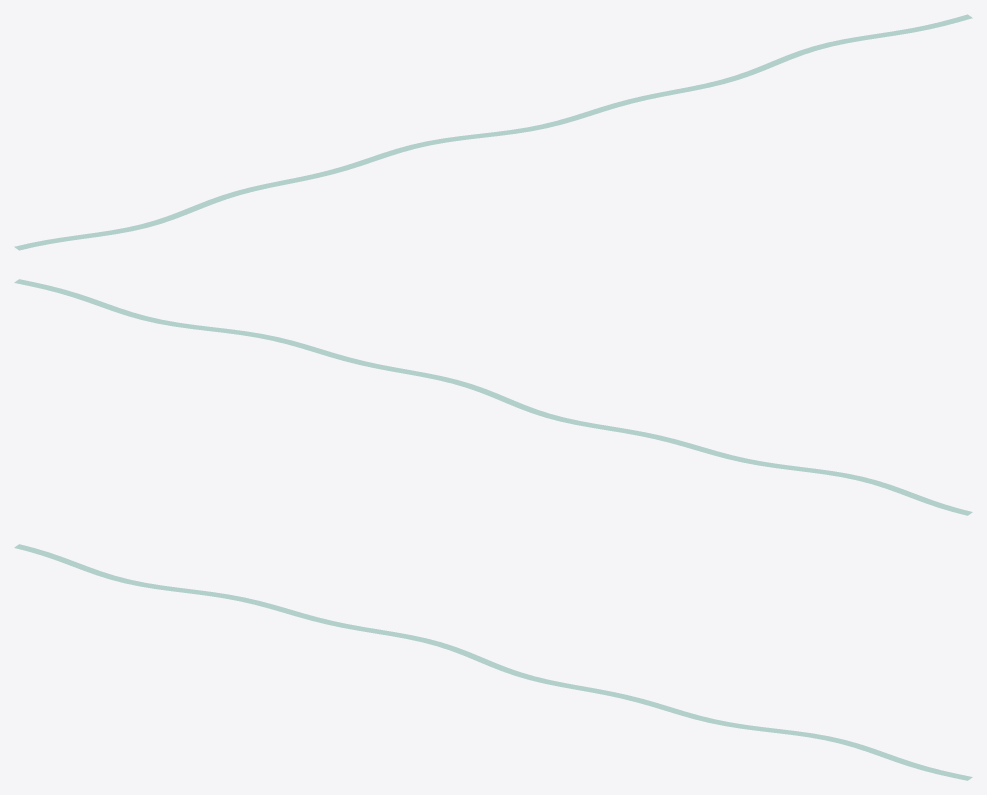
File: shore_foam_strip.glb
3 renders of one model, top to bottom at view 1: azimuth 30°, elevation 25°; view 2: azimuth 150°, elevation 25°; view 3: azimuth 330°, elevation 25°, orthographic.
Visible parts, largest first — view 1: shore_foam; view 2: shore_foam; view 3: shore_foam.
Part boxes in pixels (left/top/right/bottom): shore_foam: left=14, top=14, right=972, bottom=250; shore_foam: left=14, top=279, right=972, bottom=515; shore_foam: left=14, top=544, right=972, bottom=780.
Bounding box in the file's own units: 16 × 0 × 0.572.
